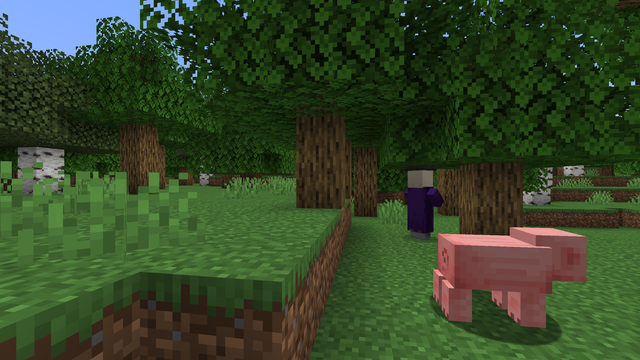cochons: (439, 229, 556, 335)
sorcieres: (407, 167, 434, 240)
